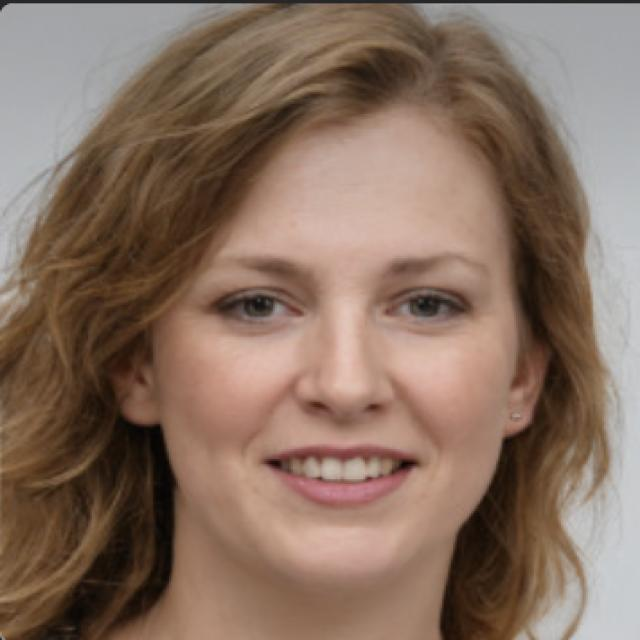happy: (110, 22, 524, 609)
